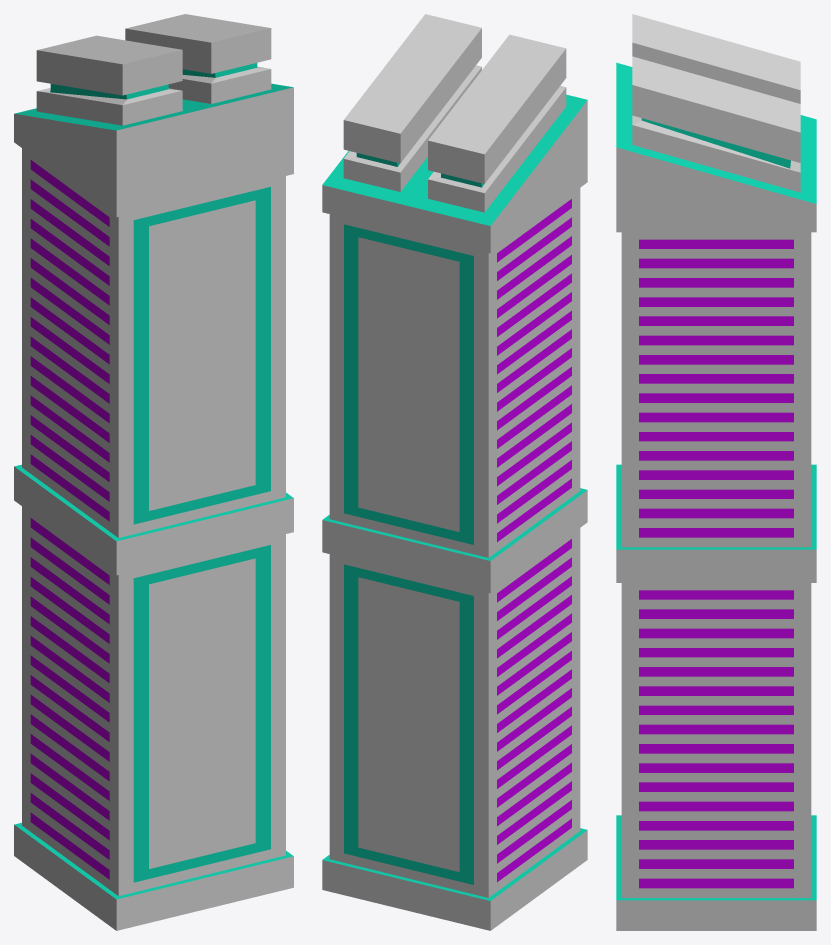
File: SM_Building_Tall_2.fbx
3 renders of one model, left to right at view 1: azimuth 30°, elevation 25°; view 2: azimuth 150°, elevation 25°; view 3: azimuth 270°, elevation 25°, orthographic. The views are drawn at different scales.
Visible parts, largest first — view 1: building_08.005; view 2: building_08.005; view 3: building_08.005.
Boxes of the visible parts, x1=… form: building_08.005: x1=14, y1=14, x2=293, y2=930; building_08.005: x1=322, y1=14, x2=587, y2=930; building_08.005: x1=616, y1=14, x2=816, y2=930.
Size of the model in its own units: 8 by 36.95 by 8.
